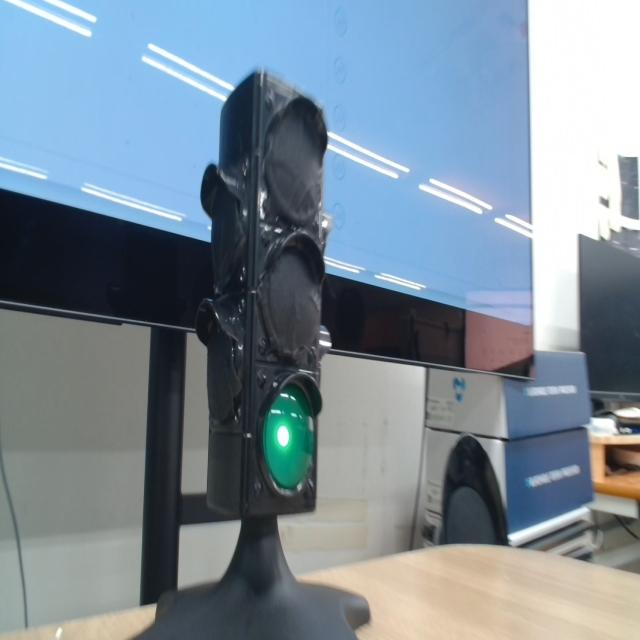green_light: (263, 385, 314, 490), (277, 425, 289, 446)
